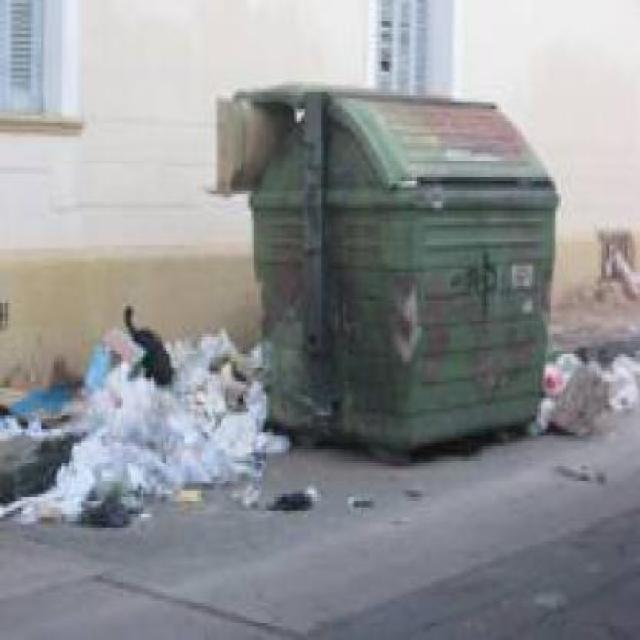garbage: (34, 323, 257, 507), (509, 334, 636, 432)
